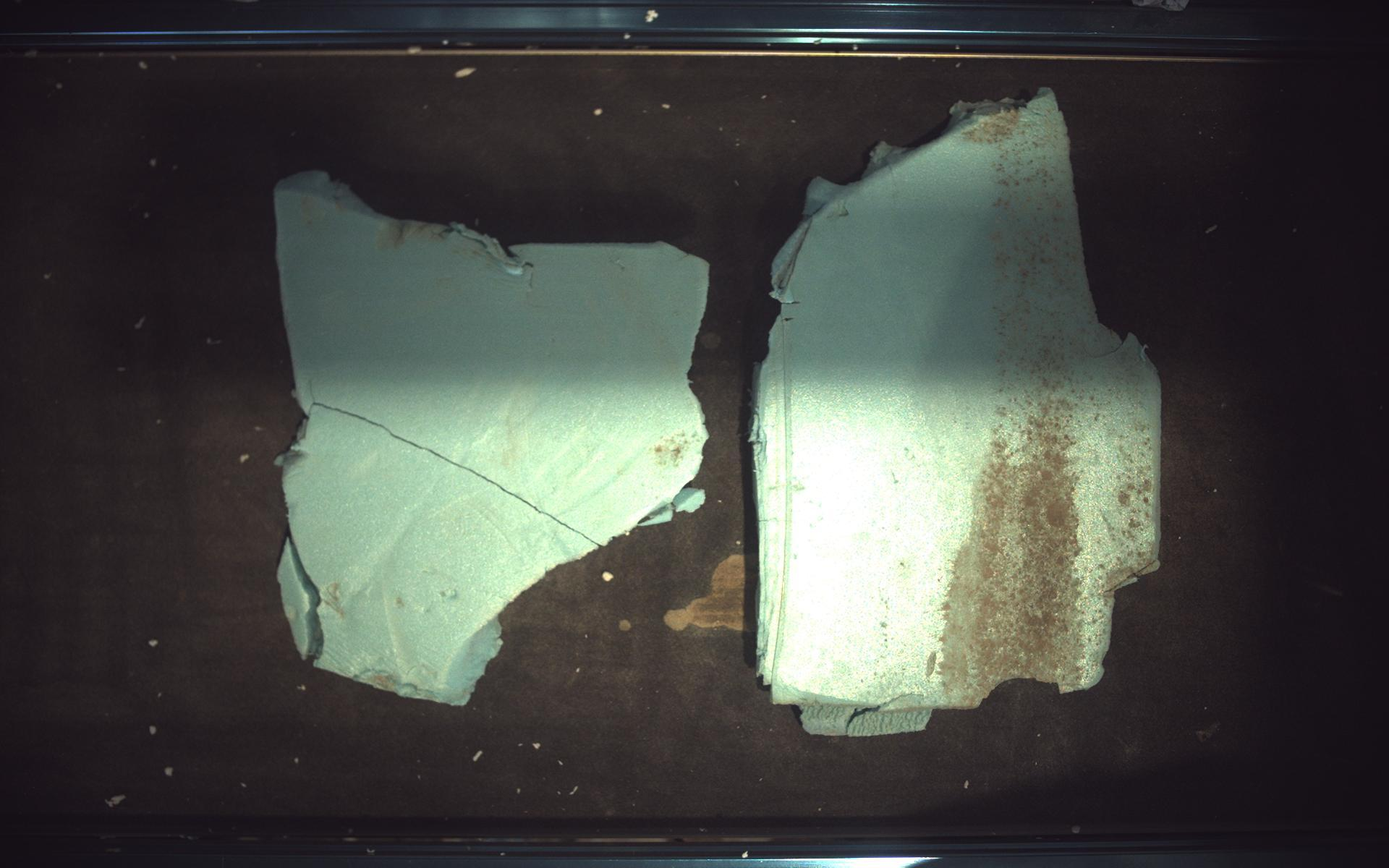foam: (752, 88, 1164, 737), (274, 171, 709, 706)
